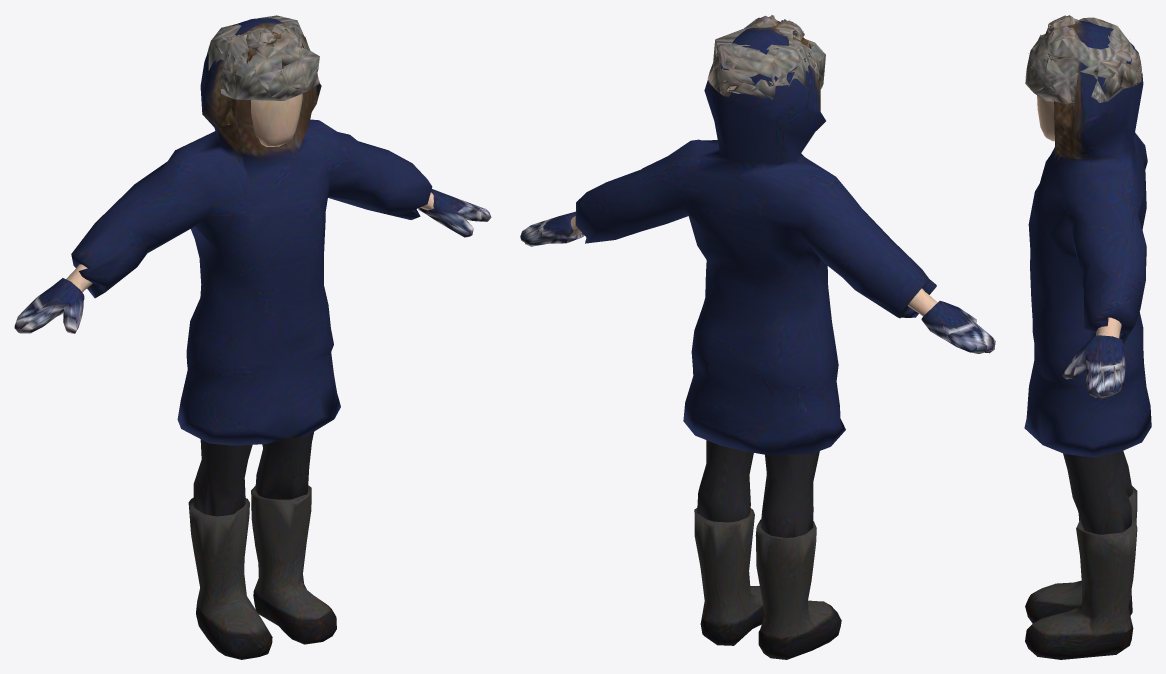
The model's file is npc_x_boy_w2.glb.
3 views of the same model, side by side, from view 1: azimuth 30°, elevation 25°; view 2: azimuth 150°, elevation 25°; view 3: azimuth 270°, elevation 25° (orthographic).
Parts seen in each view (by area): view 1: Human; view 2: Human; view 3: Human.
Boxes of the visible parts, left/top/right/bottom form: Human: left=14, top=15, right=491, bottom=659; Human: left=520, top=15, right=995, bottom=659; Human: left=1024, top=15, right=1151, bottom=659.
Bounding box in the file's own units: 1.18 × 1.46 × 0.2749.
Materials: 1 (1 with a texture image).
